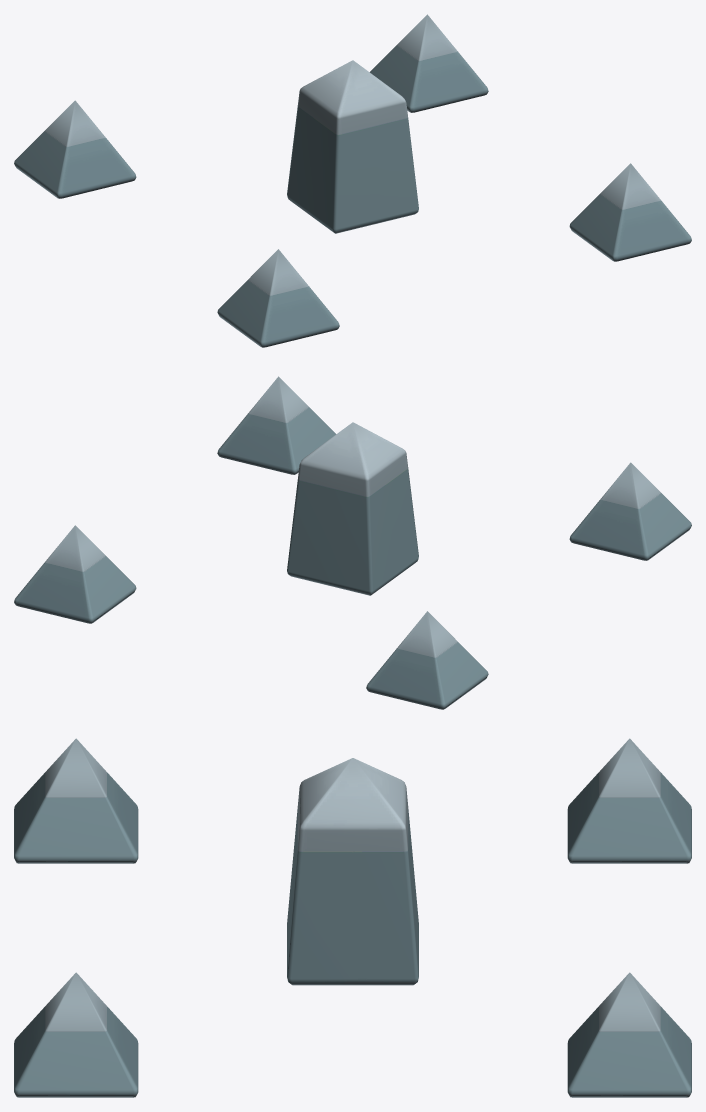
Rendered from Props.fbx.
The picture shows the model from 3 angles, top to bottom: view 1: azimuth 30°, elevation 25°; view 2: azimuth 150°, elevation 25°; view 3: azimuth 270°, elevation 25°; orthographic projection. The views are drawn at different scales.
Visible parts, largest first — view 1: 三角锥 (×4), 棱锥; view 2: 三角锥 (×4), 棱锥; view 3: 三角锥 (×4), 棱锥.
Part boxes in pixels (x1=…): 三角锥 (×4): x1=14, y1=14, x2=691, y2=347; 棱锥: x1=287, y1=60, x2=418, y2=233; 三角锥 (×4): x1=14, y1=376, x2=691, y2=709; 棱锥: x1=287, y1=422, x2=418, y2=595; 三角锥 (×4): x1=14, y1=738, x2=691, y2=1097; 棱锥: x1=287, y1=758, x2=418, y2=985.
Size of the model in its own units: 19.59 by 6.42 by 19.6.
